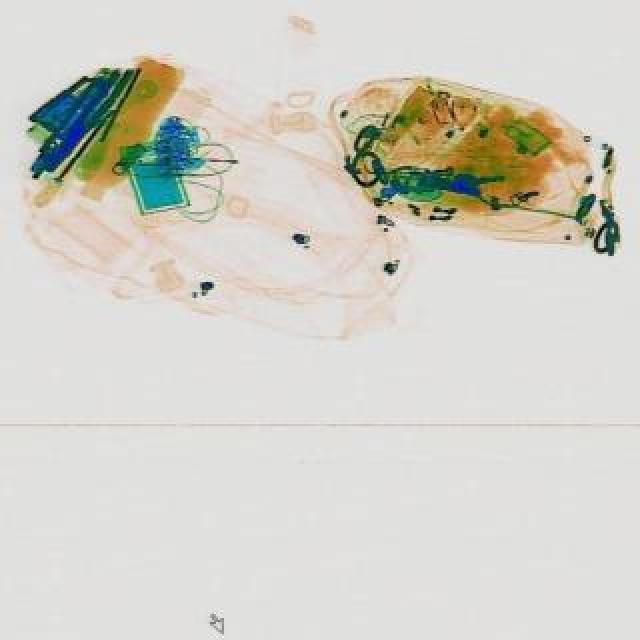wrench: (44, 64, 140, 180)
